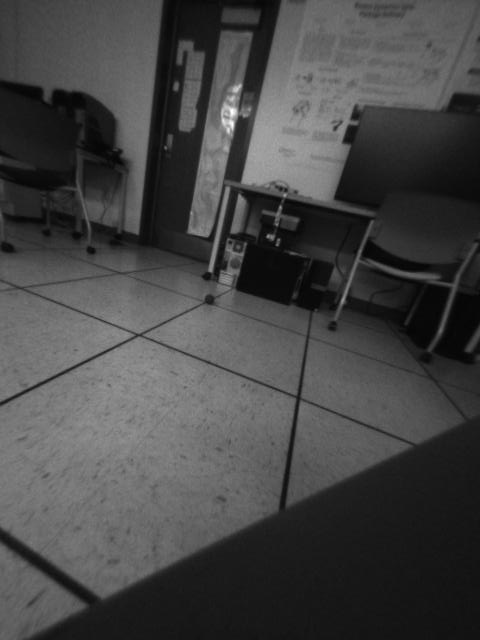dogtoy: (200, 287, 222, 308)
